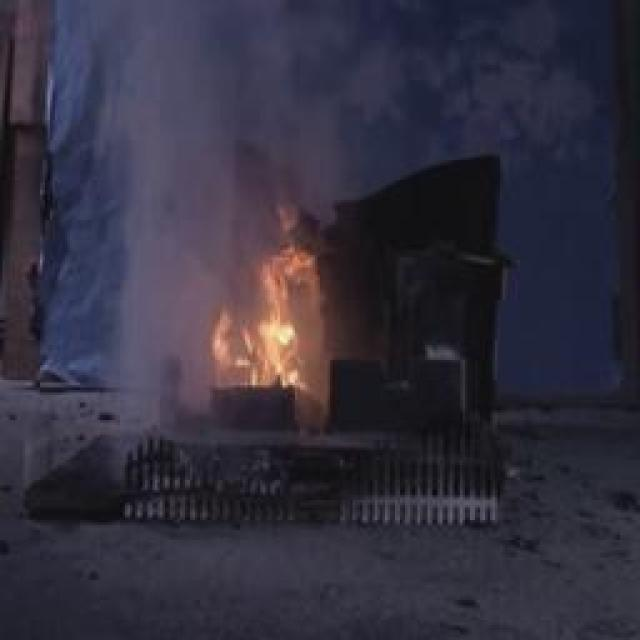fire: (209, 216, 326, 399)
